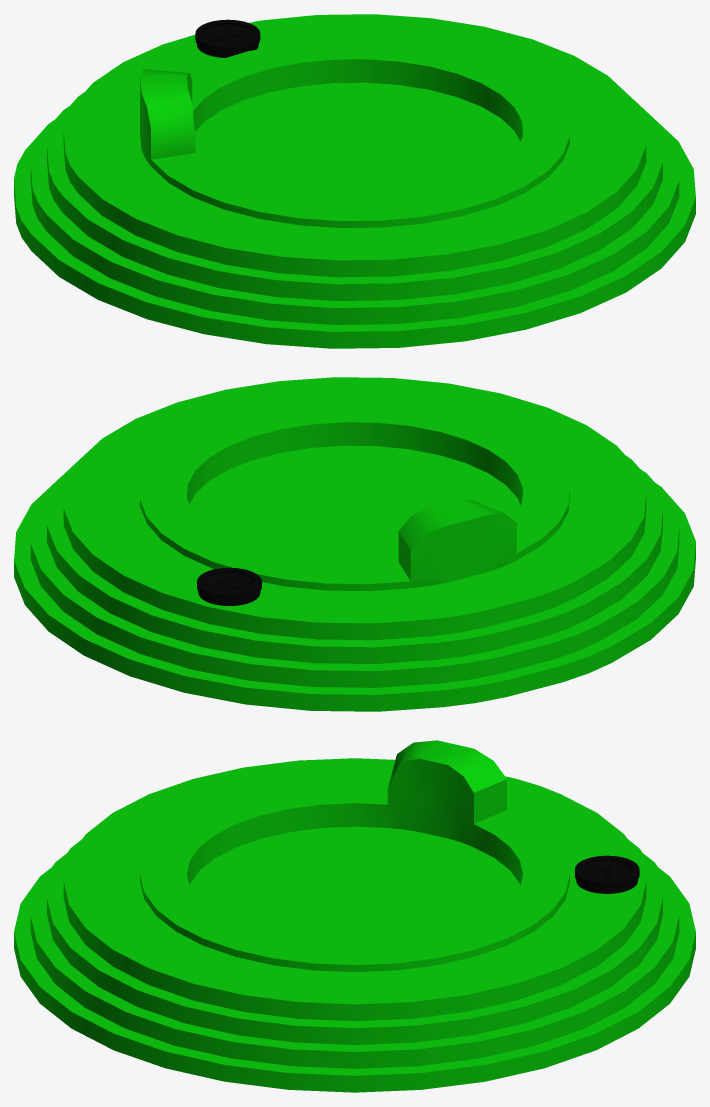
The model's file is ST_Aimant_Base.fbx.
The picture shows the model from 3 angles, top to bottom: view 1: azimuth 30°, elevation 25°; view 2: azimuth 150°, elevation 25°; view 3: azimuth 270°, elevation 25°; orthographic projection.
Parts seen in each view (by area): view 1: ST_Base_Grue; view 2: ST_Base_Grue; view 3: ST_Base_Grue.
Part boxes in pixels (x1,y1,x2,y2): ST_Base_Grue: [14, 14, 695, 348]; ST_Base_Grue: [14, 377, 695, 711]; ST_Base_Grue: [14, 740, 695, 1092].
Bounding box in the file's own units: 581 × 117 × 581.
